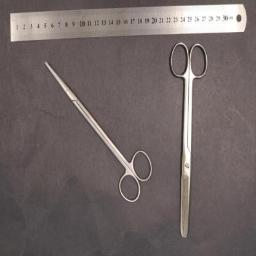Dressing Scissors: (168, 41, 210, 237)
